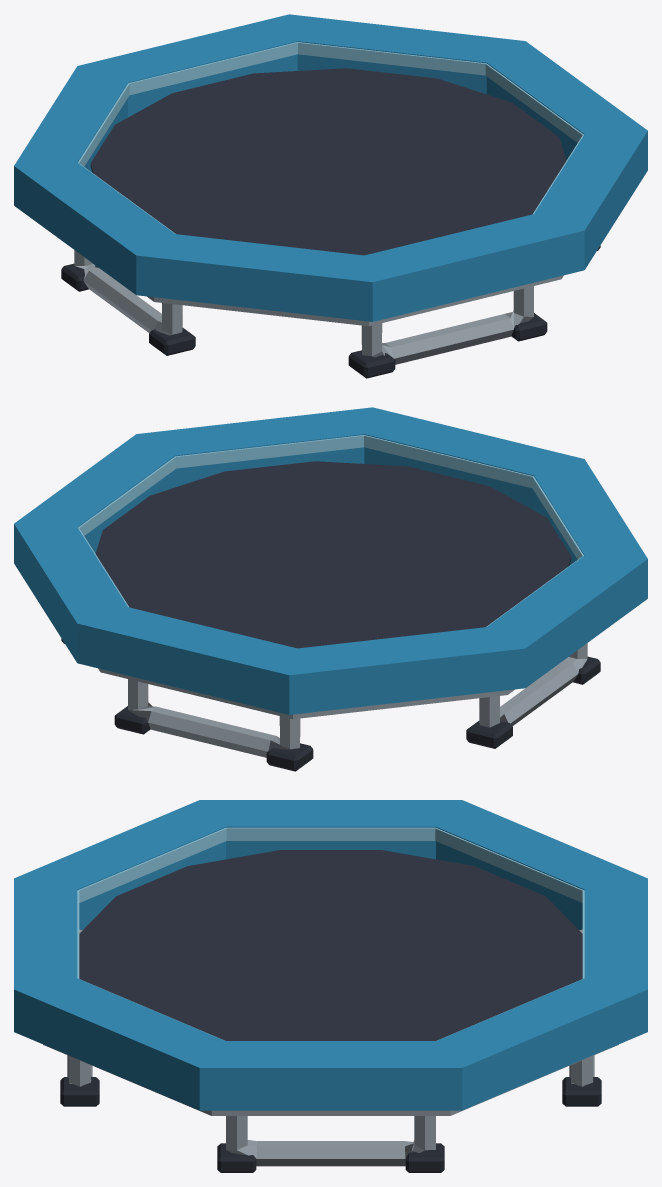
File: Trampoline.fbx
3 views of the same model, one above another, from view 1: azimuth 30°, elevation 25°; view 2: azimuth 150°, elevation 25°; view 3: azimuth 270°, elevation 25° (orthographic). The views are drawn at different scales.
Parts seen in each view (by area): view 1: Body; view 2: Body; view 3: Body.
Boxes of the visible parts, x1,y1,x2,y2 form: Body: [14, 14, 647, 378]; Body: [14, 407, 647, 771]; Body: [14, 800, 647, 1172].
Size of the model in its own units: 3.23 by 0.71 by 3.23.
